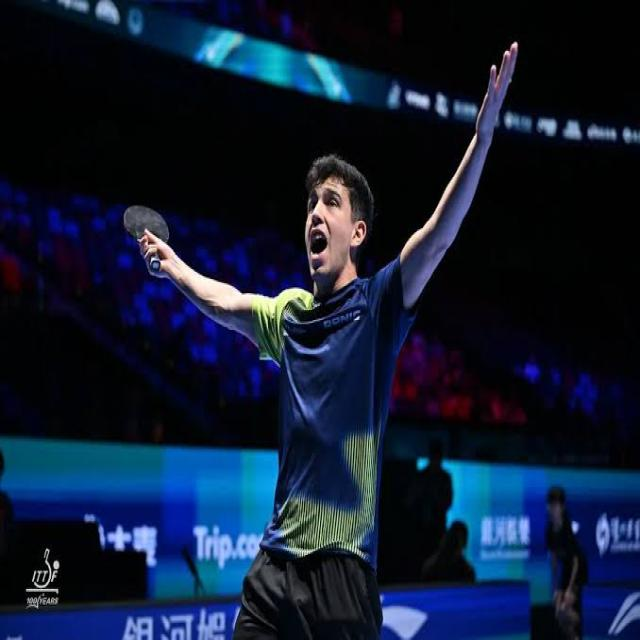TT Racket: (117, 198, 172, 251)
